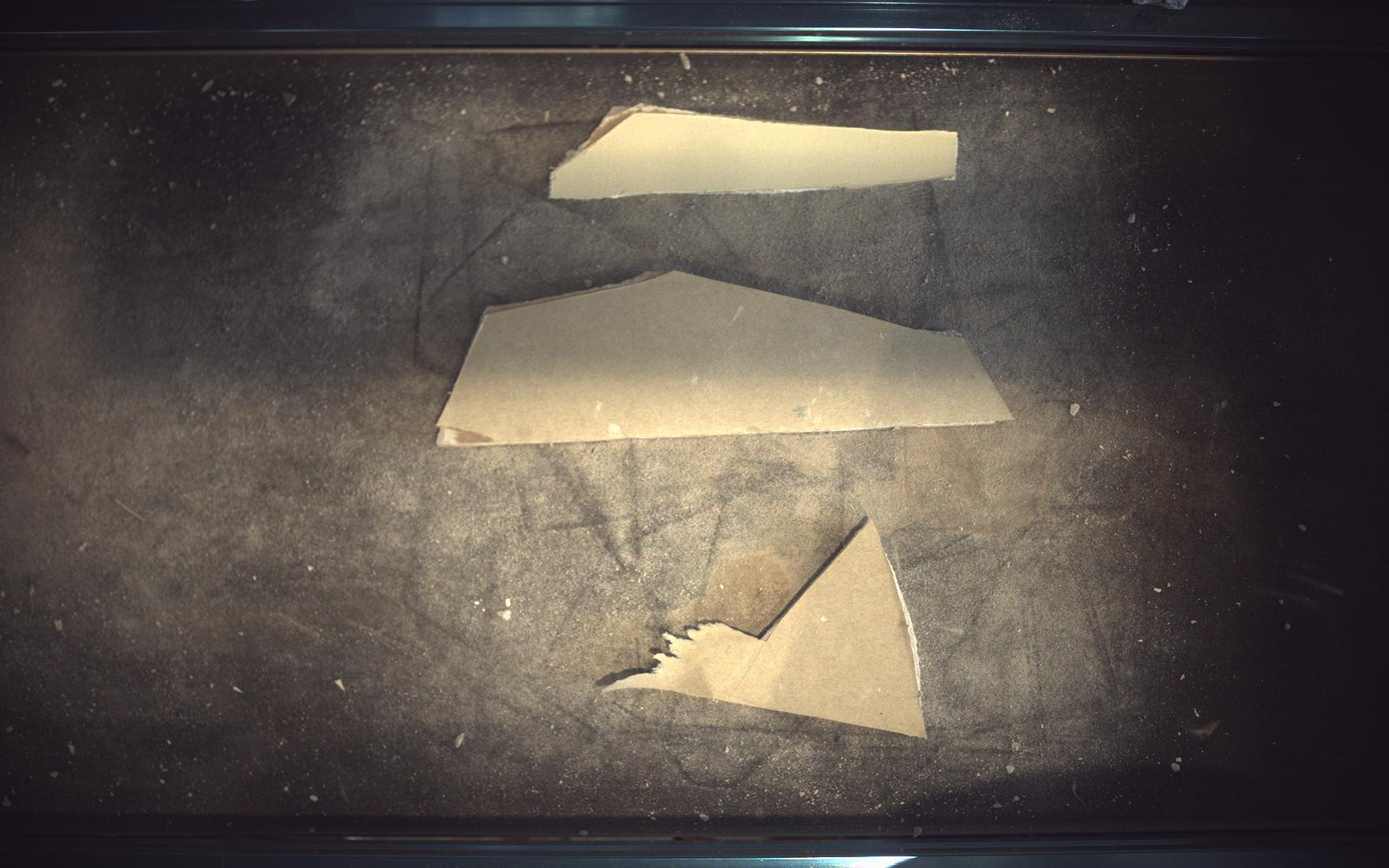gypsum_board: (437, 270, 1014, 446), (605, 521, 927, 739), (551, 103, 960, 199)
